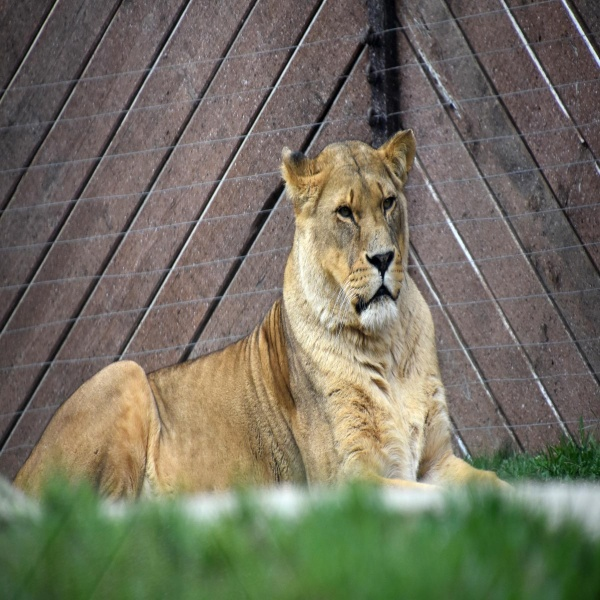Lion: (10, 123, 521, 511)
